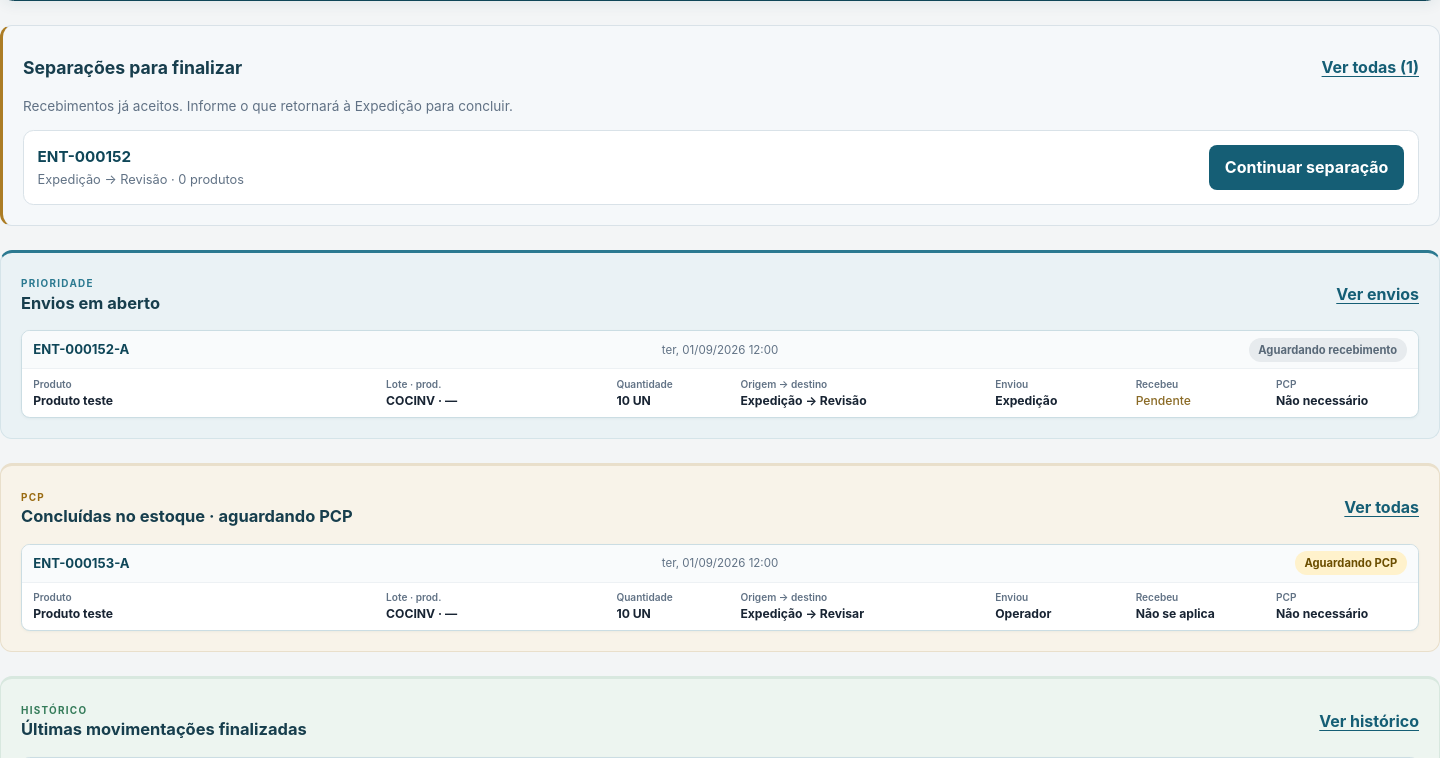
Scenario: Resumo operacional da Home › abre envio com aceite autorizado e fecha com ESC
This screenshot has width=1440, height=758.
(page scrolled)
Step 1. Click the button that starts with "ENT-000152-A" → x=720, y=350, box [22,331,1418,417]
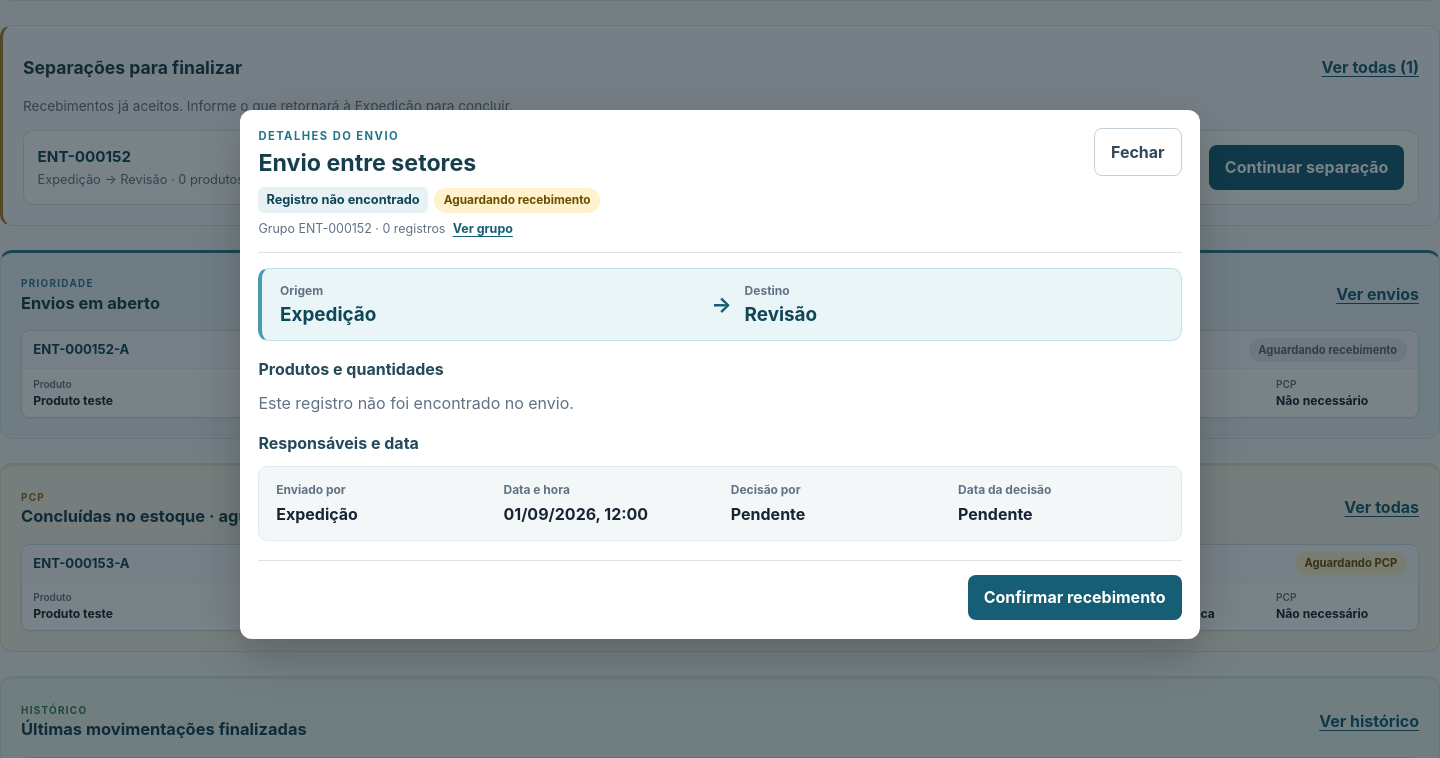
Check: the dialog shows "ENT-000152", box [298,220,372,235]
Check: the dialog shows "Confirmar recebimento", box [968,574,1182,620]
Step 2. Press Escape in the dialog, box [240,110,1200,638]
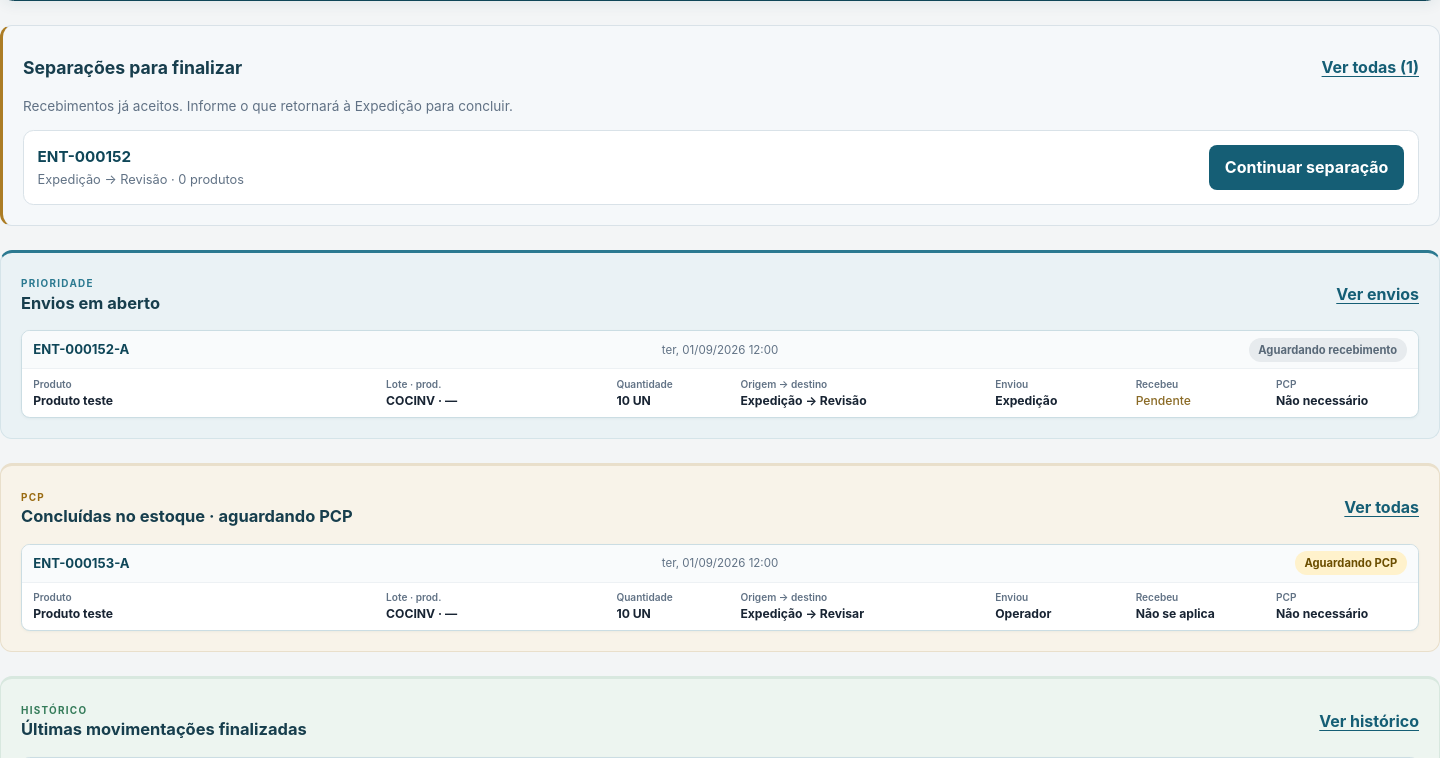
Check: the dialog is gone
